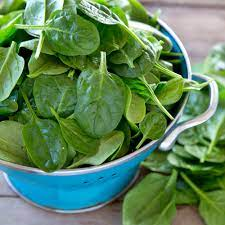spinach: (12, 15, 156, 136)
